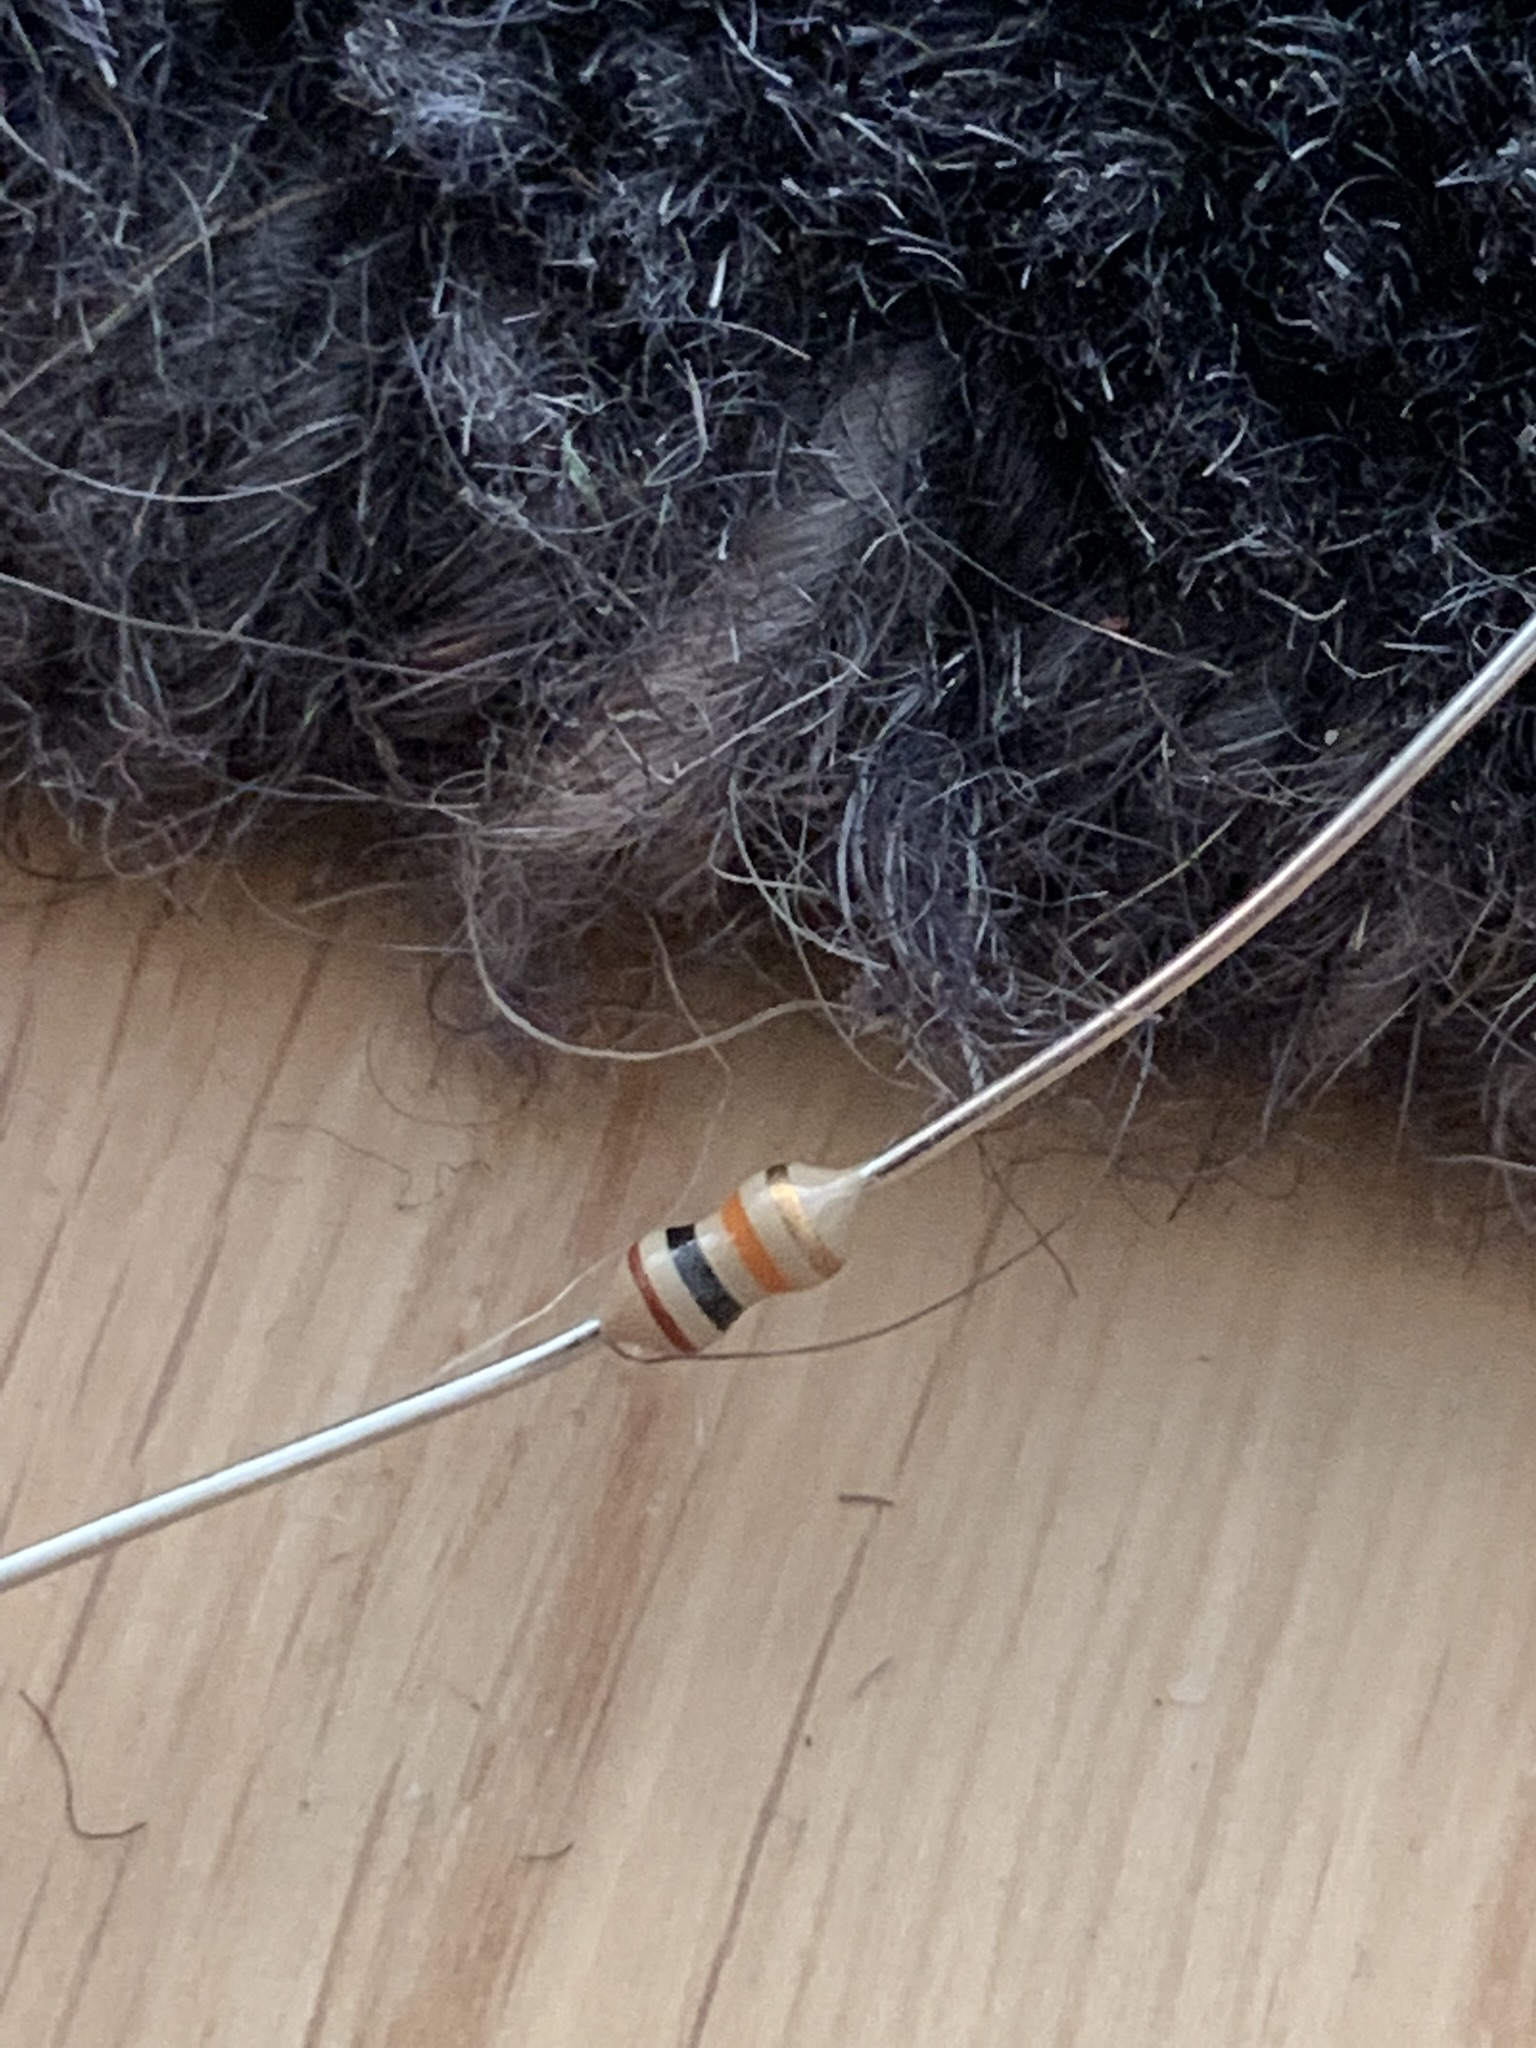resistor_thd: (600, 1159, 854, 1361)
